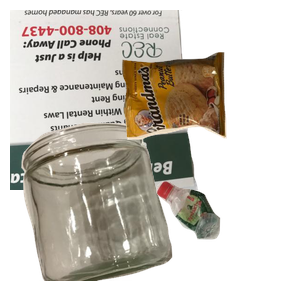glass: (19, 120, 184, 300)
paper: (10, 10, 201, 190)
plastic: (153, 178, 300, 300)
trash: (120, 50, 300, 182)
